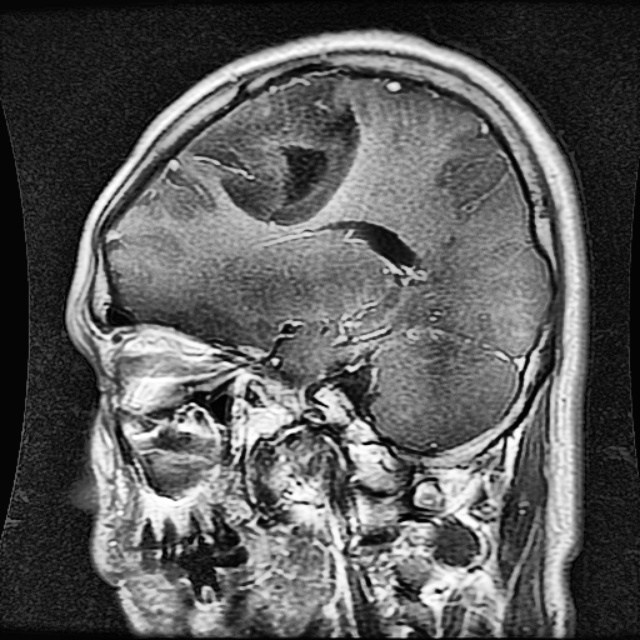Meningioma: (179, 79, 360, 220)
